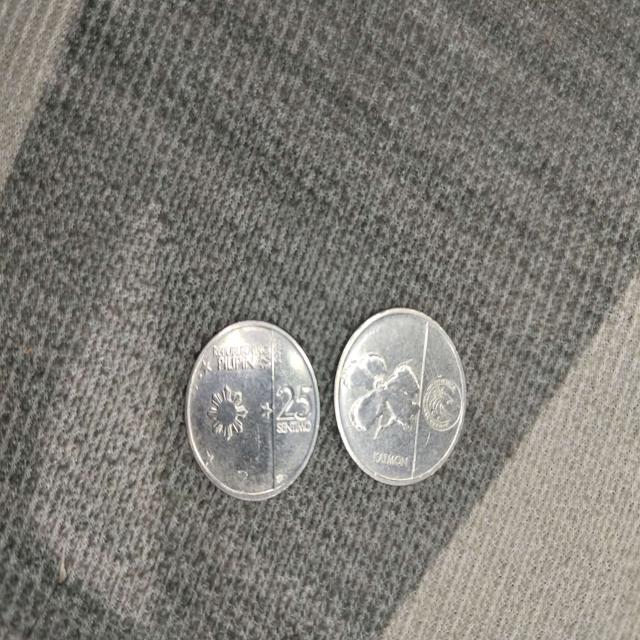25 cents: (183, 315, 325, 507), (334, 309, 467, 484)
